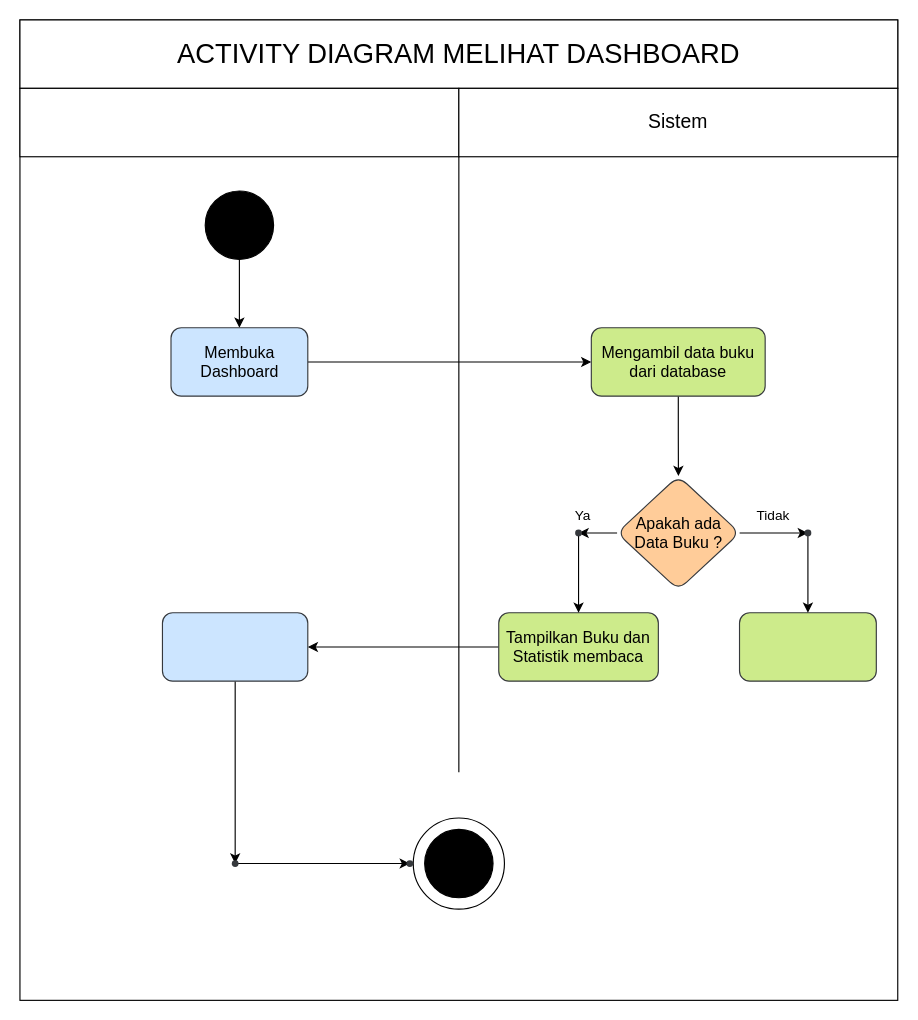
The diagram is 918 pixels wide and 1020 high, and some of its shapes have lost their labels. The box of each missing label's shape, as (x1, y1, x2, y2) in pixels:
Tampilkan pesan di Dashboard "Belum ada Buku": (738, 612, 876, 681)
User: (19, 87, 459, 157)
User melihat informasi buku di Dashboard: (161, 612, 308, 681)
